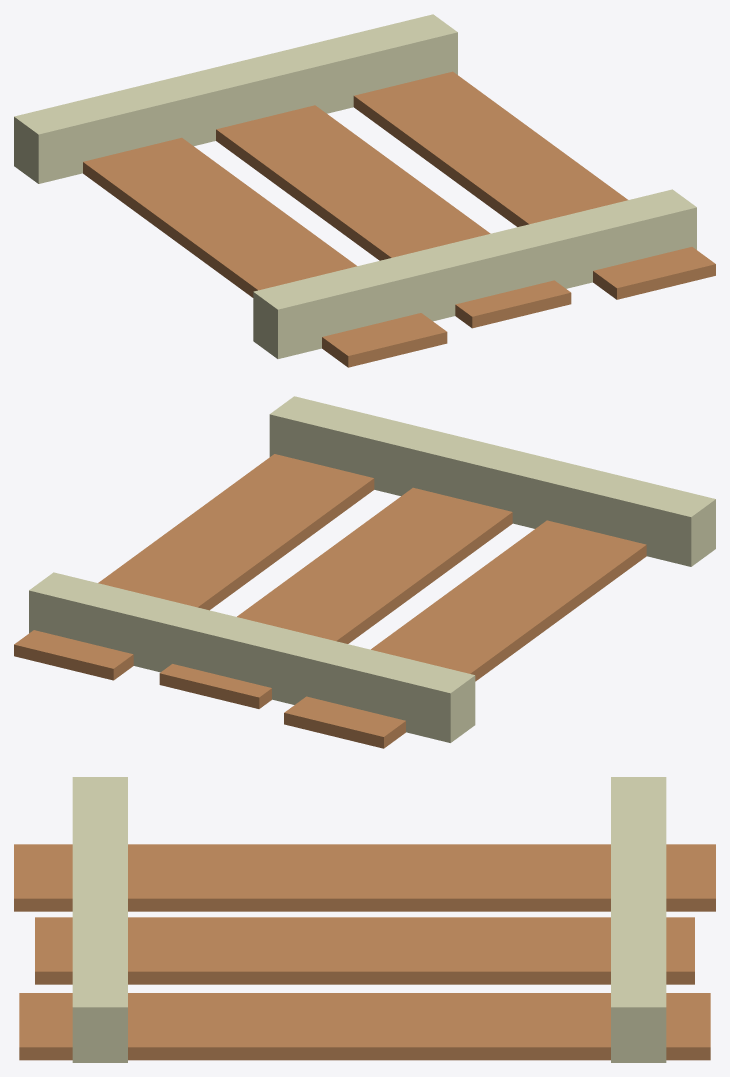
The model's file is SM_TrackMine 1.fbx.
The picture shows the model from 3 angles, top to bottom: view 1: azimuth 30°, elevation 25°; view 2: azimuth 150°, elevation 25°; view 3: azimuth 270°, elevation 25°; orthographic projection. The views are drawn at different scales.
Parts seen in each view (by area): view 1: SM_Track; view 2: SM_Track; view 3: SM_Track.
Boxes of the visible parts, x1,y1,x2,y2 form: SM_Track: (14, 14, 715, 367); SM_Track: (14, 396, 715, 748); SM_Track: (14, 777, 715, 1062).
Size of the model in its own units: 1.11 by 0.1263 by 1.44.
